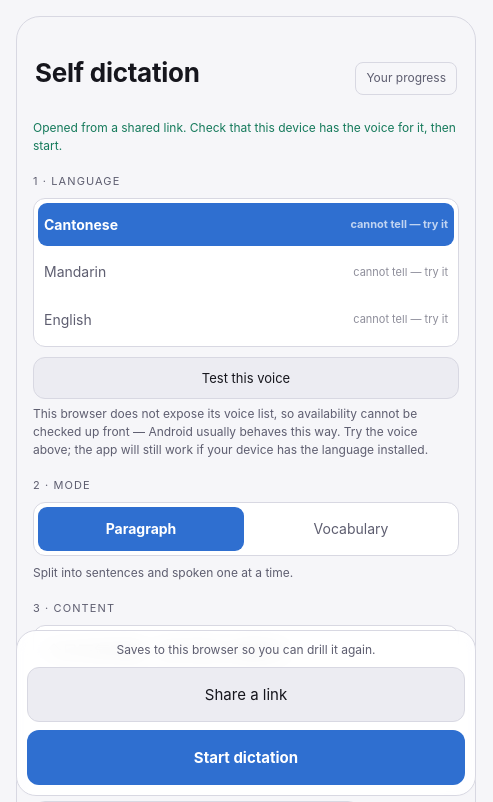
Scenario: App › still reaches Results when the Run could not be saved
Expected: the text "Opened from a shared link" is shown, [33, 120, 456, 153]
What coordinates should you click on to do the following:
click the button "Start dictation"
I would click on:
 (246, 757)
Its box is [27, 730, 465, 785].
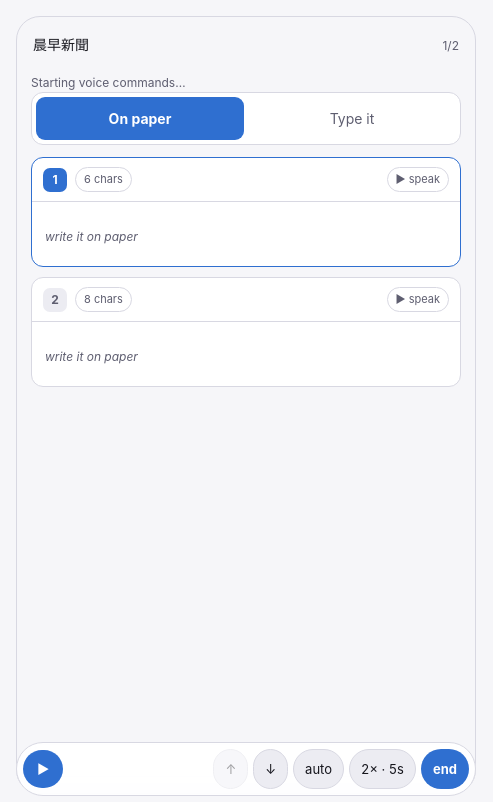
What coordinates should you click on to do the following:
click the button "end"
I would click on:
 (445, 769)
Its box is [421, 749, 469, 789].
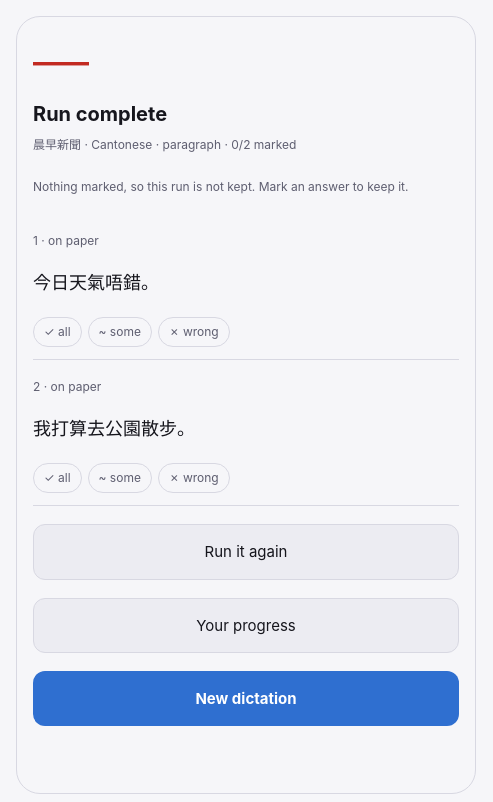
Expected: the button "Run it again" is shown, [33, 524, 459, 580]
The mark is what saves the Run, and the failure is said out loud.
What coordinates should you click on to do the following:
click the button "✗ wrong" below "今日天氣唔錯。"
I would click on:
 (194, 332)
Its box is [158, 317, 230, 347].
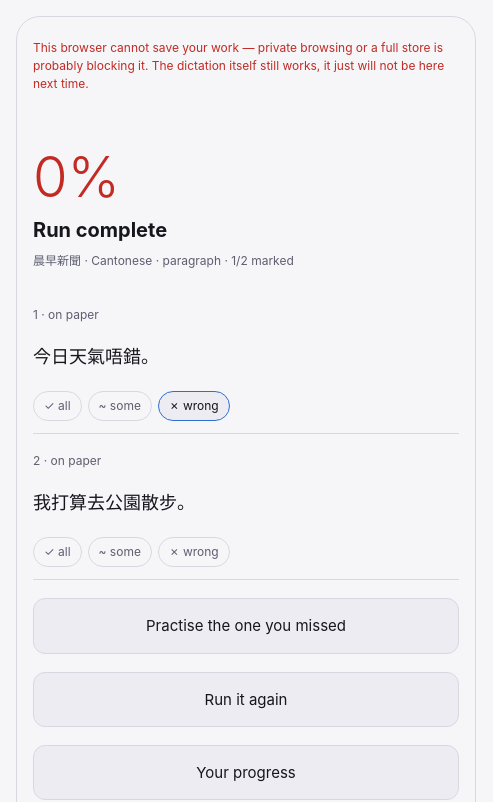
Expected: the text "cannot save your work" is shown, [33, 40, 444, 91]
